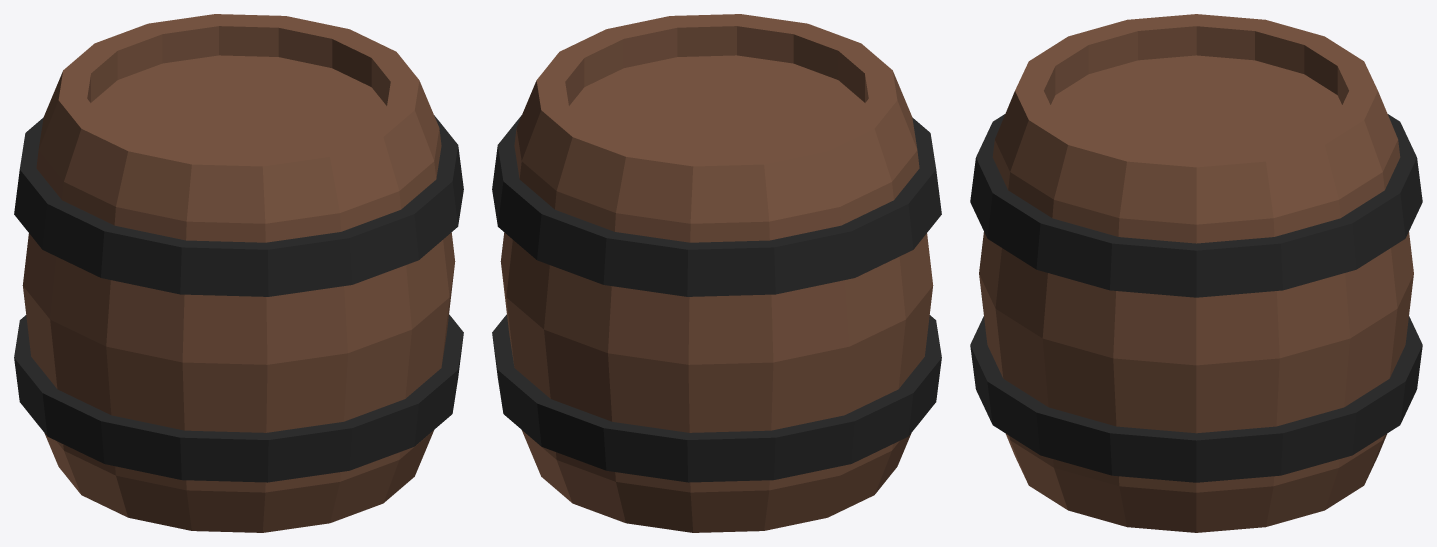
The model's file is Barrel.fbx.
3 views of the same model, side by side, from view 1: azimuth 30°, elevation 25°; view 2: azimuth 150°, elevation 25°; view 3: azimuth 270°, elevation 25° (orthographic).
Parts seen in each view (by area): view 1: Barrel, Barrel.001; view 2: Barrel, Barrel.001; view 3: Barrel, Barrel.001.
Part boxes in pixels (x1=…): Barrel: x1=22, y1=14, x2=455, y2=532; Barrel.001: x1=14, y1=115, x2=463, y2=482; Barrel: x1=500, y1=14, x2=933, y2=532; Barrel.001: x1=492, y1=115, x2=941, y2=482; Barrel: x1=979, y1=14, x2=1413, y2=532; Barrel.001: x1=970, y1=114, x2=1422, y2=482.
Size of the model in its own units: 224 by 200 by 224.
